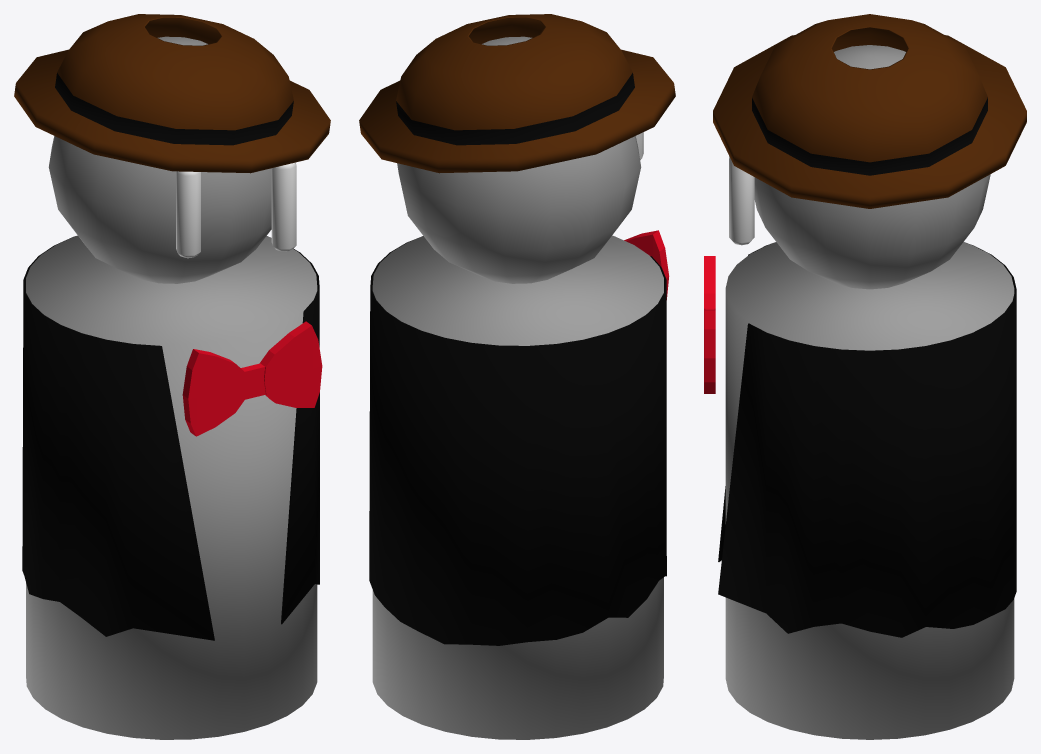
The model's file is BasicHat.fbx.
The picture shows the model from 3 angles, left to right: view 1: azimuth 30°, elevation 25°; view 2: azimuth 150°, elevation 25°; view 3: azimuth 270°, elevation 25°; orthographic projection.
Parts seen in each view (by area): view 1: Enemy, Coat, Hat, Tie, Eyes; view 2: Coat, Enemy, Hat, Tie; view 3: Coat, Enemy, Hat, Eyes, Tie.
Boxes of the visible parts, x1,y1,x2,y2 form: Enemy: (26,36,317,739); Coat: (22,236,319,640); Hat: (14,14,330,173); Tie: (182,321,322,436); Eyes: (176,162,296,258); Coat: (369,236,666,645); Enemy: (372,36,663,739); Hat: (359,14,675,173); Tie: (624,230,669,299); Coat: (718,242,1016,637); Enemy: (725,45,1014,739); Hat: (713,14,1026,208); Eyes: (729,156,754,245); Tie: (704,256,715,393).
Size of the model in its own units: 217 by 224 by 491.
